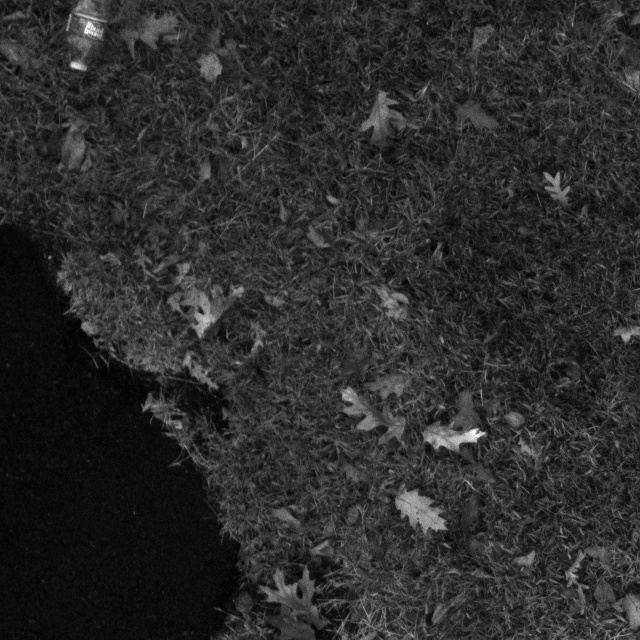bottle: (52, 0, 130, 82)
